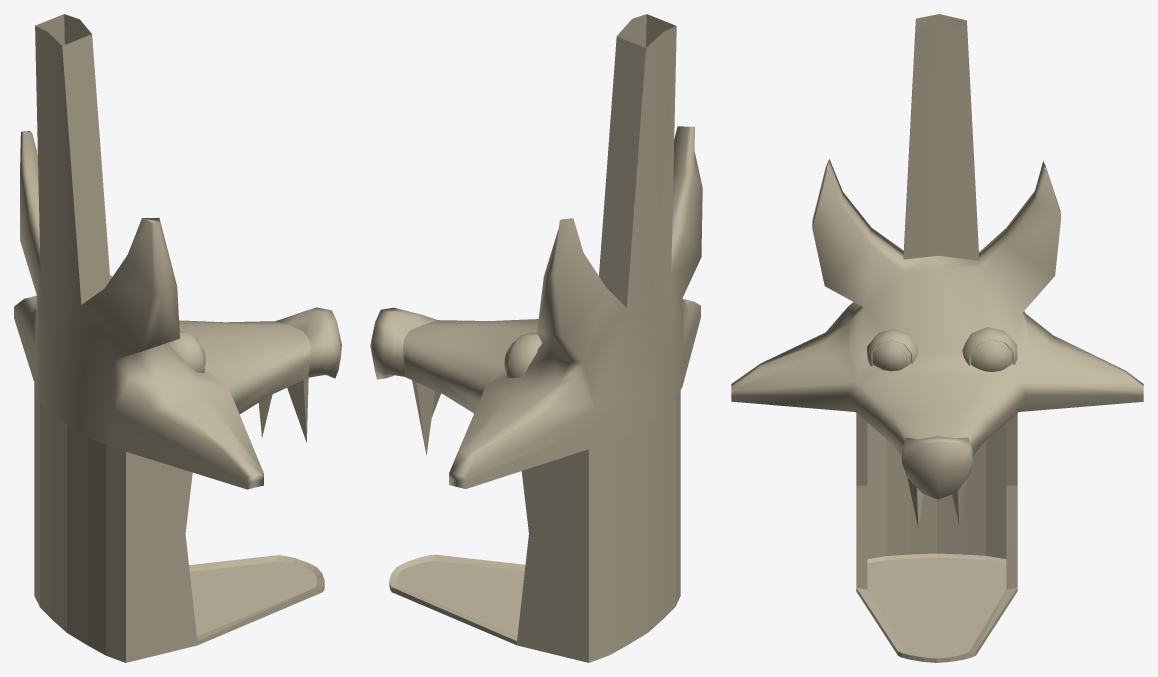
Rendered from cheminee.fbx.
3 renders of one model, left to right at view 1: azimuth 30°, elevation 25°; view 2: azimuth 150°, elevation 25°; view 3: azimuth 270°, elevation 25°, orthographic. The views are drawn at different scales.
Parts seen in each view (by area): view 1: tete, base, oeil_droit, dent2; view 2: tete, base, oeil_gauche, dent1; view 3: tete, base, oeil_gauche, oeil_droit.
Part boxes in pixels (x1,y1,x2,y2): tete: (14,14,341,489); base: (34,383,324,662); oeil_droit: (168,331,205,373); dent2: (287,377,308,442); tete: (370,14,702,488); base: (389,390,680,662); oeil_gauche: (504,333,542,377); dent1: (412,380,435,455); tete: (731,14,1143,499); base: (856,413,1017,662); oeil_gauche: (962,327,1017,371); oeil_droit: (867,329,918,371).
Size of the model in its own units: 137 by 276 by 192.
